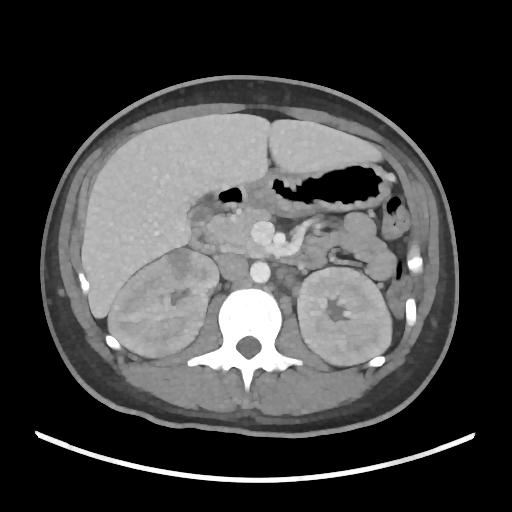Lesion: (166, 243, 198, 283)
